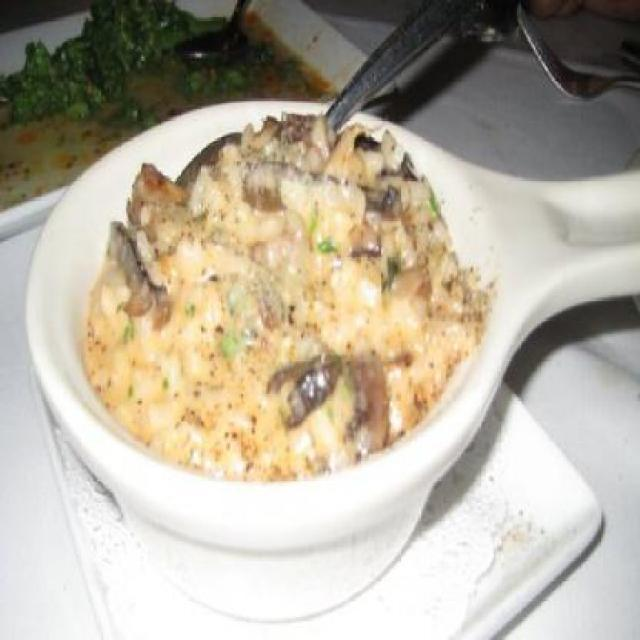Risotto: (72, 94, 471, 477)
